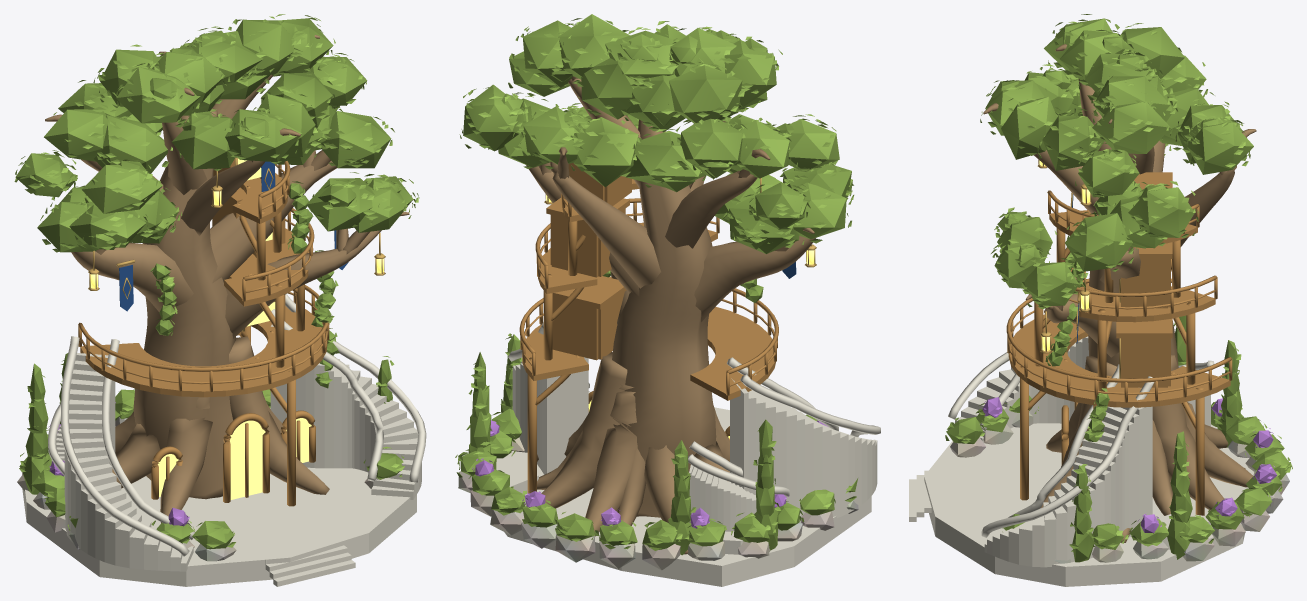
File: habit-v01.glb
3 renders of one model, left to right at view 1: azimuth 30°, elevation 25°; view 2: azimuth 150°, elevation 25°; view 3: azimuth 270°, elevation 25°, orthographic. The views are drawn at different scales.
Visible parts, largest first — view 1: oak-stairs-L1-S1-oak-garden-limestone, oak-canopy-L2-S4-oak-leaf-and-garden-color, oak-canopy-L3-S4-oak-leaf-and-garden-color, oak-trunk-L1-S2-oak-sculpted-bark, oak-canopy-L1-S4-oak-leaf-and-garden-color, oak-galleries-L1-S3-oak-warm-timber, oak-trunk-L1-S1-oak-sculpted-bark, oak-stairs-L2-S1-oak-garden-limestone, oak-stairs-L1-S3-oak-garden-limestone, oak-trunk-L2-S2-oak-sculpted-bark, oak-galleries-L2-S3-oak-warm-timber, oak-stairs-L1-S5-oak-garden-limestone (+12 smaller); view 2: oak-trunk-L1-S2-oak-sculpted-bark, oak-canopy-L1-S4-oak-leaf-and-garden-color, oak-canopy-L3-S4-oak-leaf-and-garden-color, oak-stairs-L1-S1-oak-garden-limestone, oak-canopy-L2-S4-oak-leaf-and-garden-color, oak-galleries-L1-S3-oak-warm-timber, oak-trunk-L2-S1-oak-sculpted-bark, oak-stairs-L2-S1-oak-garden-limestone, oak-galleries-L2-S3-oak-warm-timber, oak-stairs-L3-S1-oak-garden-limestone, oak-trunk-L2-S2-oak-sculpted-bark, oak-trunk-L1-S1-oak-sculpted-bark (+9 smaller); view 3: oak-canopy-L2-S4-oak-leaf-and-garden-color, oak-canopy-L3-S4-oak-leaf-and-garden-color, oak-stairs-L1-S1-oak-garden-limestone, oak-canopy-L1-S4-oak-leaf-and-garden-color, oak-galleries-L1-S3-oak-warm-timber, oak-stairs-L2-S1-oak-garden-limestone, oak-galleries-L2-S3-oak-warm-timber, oak-trunk-L2-S1-oak-sculpted-bark, oak-stairs-L2-S3-oak-garden-limestone, oak-stairs-L2-S5-oak-garden-limestone, oak-galleries-L1-S5-oak-warm-timber, oak-trunk-L1-S2-oak-sculpted-bark (+10 smaller).
Boxes of the visible parts, <box> form: oak-stairs-L1-S1-oak-garden-limestone: <box>22,380,416,586</box>; oak-canopy-L2-S4-oak-leaf-and-garden-color: <box>14,54,419,549</box>; oak-canopy-L3-S4-oak-leaf-and-garden-color: <box>31,14,367,498</box>; oak-trunk-L1-S2-oak-sculpted-bark: <box>42,51,336,499</box>; oak-canopy-L1-S4-oak-leaf-and-garden-color: <box>23,43,394,543</box>; oak-galleries-L1-S3-oak-warm-timber: <box>80,254,327,506</box>; oak-trunk-L1-S1-oak-sculpted-bark: <box>112,336,329,523</box>; oak-stairs-L2-S1-oak-garden-limestone: <box>17,366,421,561</box>; oak-stairs-L1-S3-oak-garden-limestone: <box>65,353,193,570</box>; oak-trunk-L2-S2-oak-sculpted-bark: <box>45,114,409,338</box>; oak-galleries-L2-S3-oak-warm-timber: <box>212,187,315,462</box>; oak-stairs-L1-S5-oak-garden-limestone: <box>61,336,194,556</box>; oak-trunk-L1-S2-oak-sculpted-bark: <box>526,119,815,517</box>; oak-canopy-L1-S4-oak-leaf-and-garden-color: <box>468,53,854,550</box>; oak-canopy-L3-S4-oak-leaf-and-garden-color: <box>455,14,839,555</box>; oak-stairs-L1-S1-oak-garden-limestone: <box>470,390,877,586</box>; oak-canopy-L2-S4-oak-leaf-and-garden-color: <box>459,21,857,549</box>; oak-galleries-L1-S3-oak-warm-timber: <box>522,276,775,493</box>; oak-trunk-L2-S1-oak-sculpted-bark: <box>541,352,637,536</box>; oak-stairs-L2-S1-oak-garden-limestone: <box>490,357,858,568</box>; oak-galleries-L2-S3-oak-warm-timber: <box>538,198,717,412</box>; oak-stairs-L3-S1-oak-garden-limestone: <box>458,471,802,570</box>; oak-trunk-L2-S2-oak-sculpted-bark: <box>611,123,770,324</box>; oak-trunk-L1-S1-oak-sculpted-bark: <box>537,405,729,554</box>; oak-canopy-L2-S4-oak-leaf-and-garden-color: <box>945,55,1284,562</box>; oak-canopy-L3-S4-oak-leaf-and-garden-color: <box>1009,14,1282,551</box>; oak-stairs-L1-S1-oak-garden-limestone: <box>909,339,1289,586</box>; oak-canopy-L1-S4-oak-leaf-and-garden-color: <box>976,66,1292,549</box>; oak-galleries-L1-S3-oak-warm-timber: <box>1008,314,1230,515</box>; oak-stairs-L2-S1-oak-garden-limestone: <box>950,406,1269,567</box>; oak-galleries-L2-S3-oak-warm-timber: <box>1034,242,1215,391</box>; oak-trunk-L2-S1-oak-sculpted-bark: <box>1152,355,1253,510</box>; oak-stairs-L2-S3-oak-garden-limestone: <box>984,406,1144,551</box>; oak-stairs-L2-S5-oak-garden-limestone: <box>981,364,1154,537</box>; oak-galleries-L1-S5-oak-warm-timber: <box>1006,278,1232,402</box>; oak-trunk-L1-S2-oak-sculpted-bark: <box>1088,129,1256,482</box>.
Bounding box in the file's own units: 2.87 × 3.62 × 2.77.
